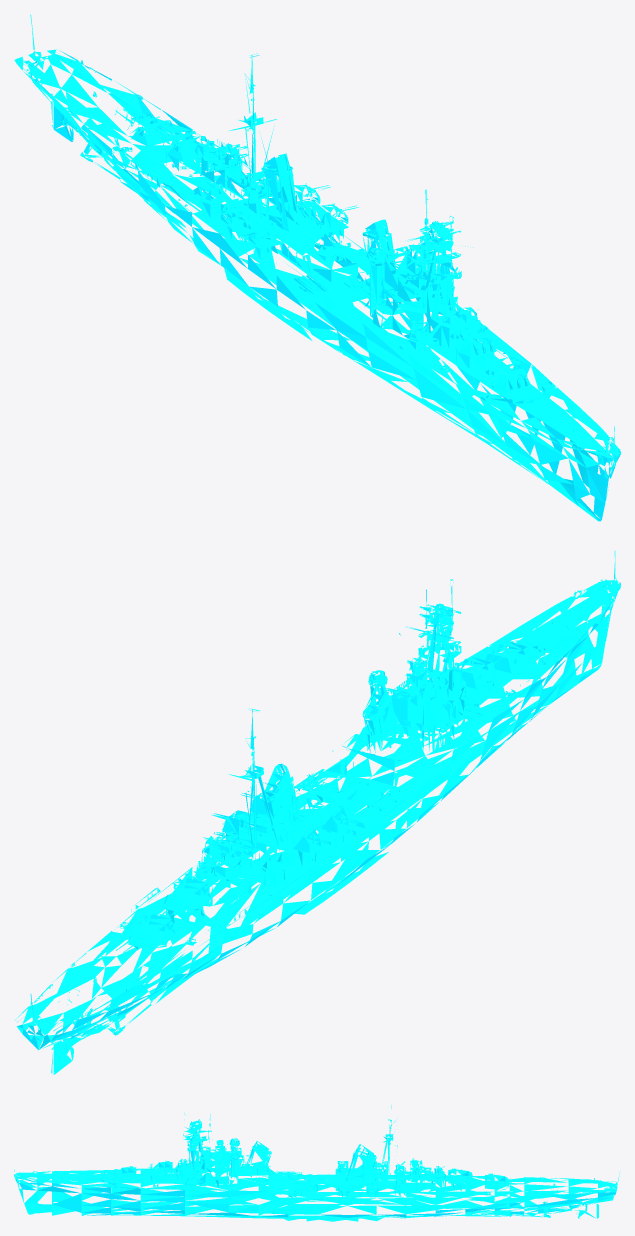
File: Schors.glb
The picture shows the model from 3 angles, top to bottom: view 1: azimuth 30°, elevation 25°; view 2: azimuth 150°, elevation 25°; view 3: azimuth 270°, elevation 25°; orthographic projection. The views are drawn at different scales.
Size of the model in its own units: 1.58 by 2.79 by 13.46.
